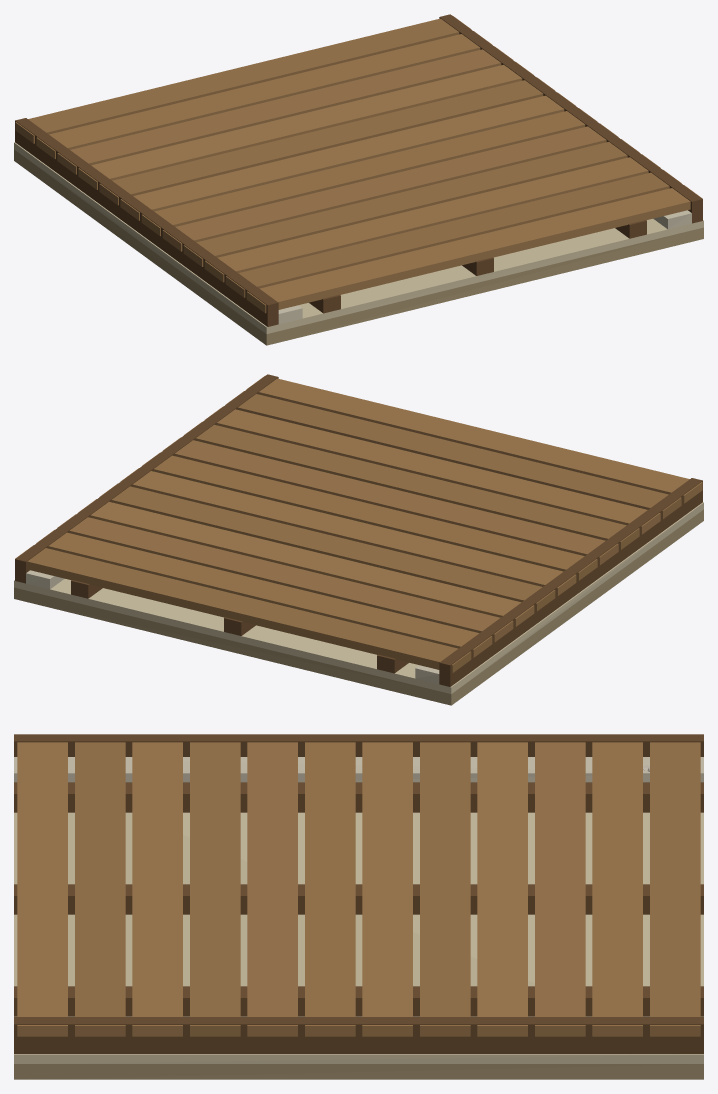
File: boardwalk-straight.glb
3 views of the same model, one above another, from view 1: azimuth 30°, elevation 25°; view 2: azimuth 150°, elevation 25°; view 3: azimuth 270°, elevation 25° (orthographic). The views are drawn at different scales.
Parts seen in each view (by area): view 1: boardwalk_straight; view 2: boardwalk_straight; view 3: boardwalk_straight.
Part boxes in pixels (x1,y1,x2,y2): boardwalk_straight: (14, 14, 703, 345); boardwalk_straight: (14, 374, 703, 705); boardwalk_straight: (14, 734, 703, 1079).
Size of the model in its own units: 4 by 0.3501 by 4.
